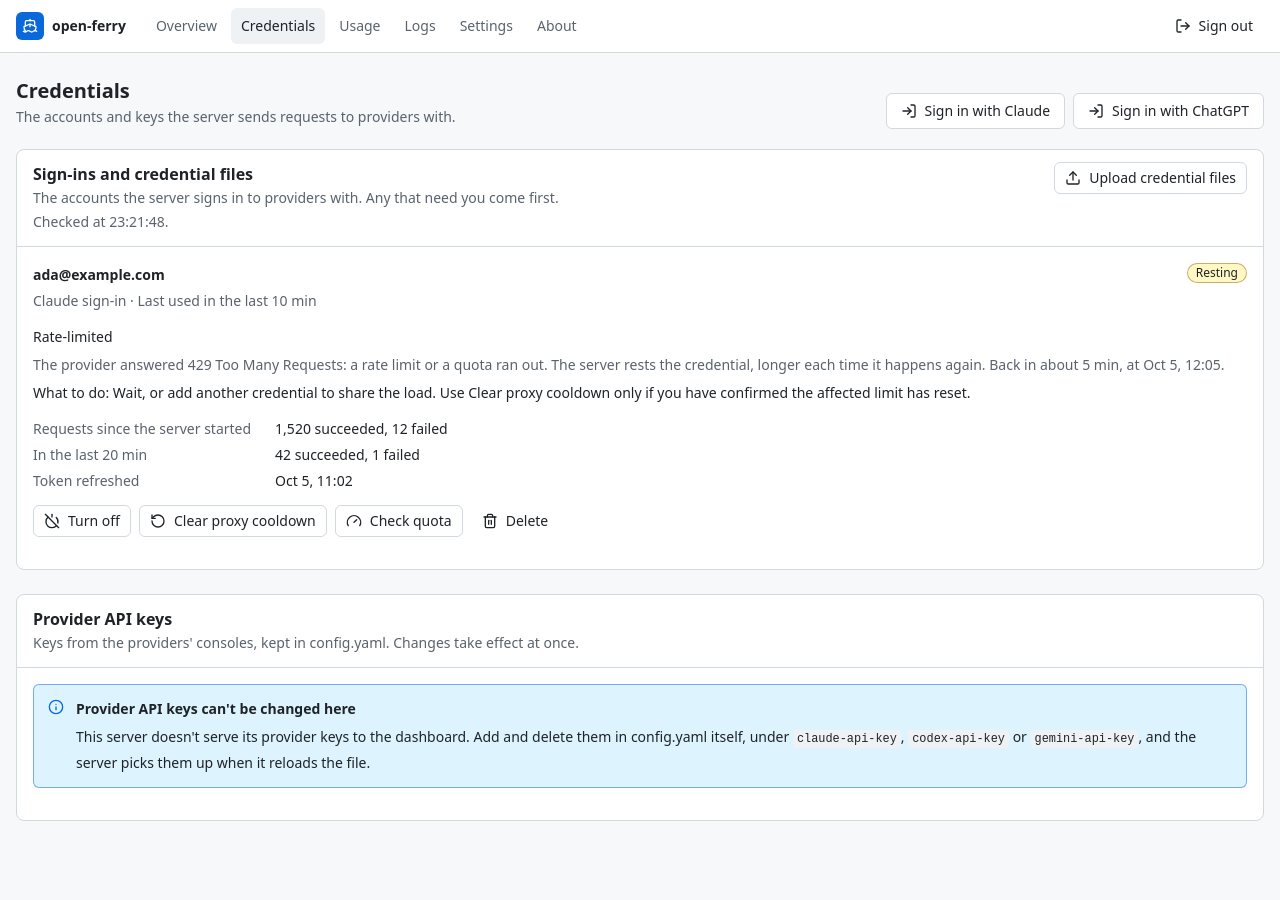
it: fresh quota and cached cooldown › waits for routing refresh and preserves the dialog (recovered: true, Escape: false)
Click the button named "Check quota of ada@example.com": (399, 521) [335,505,463,537]
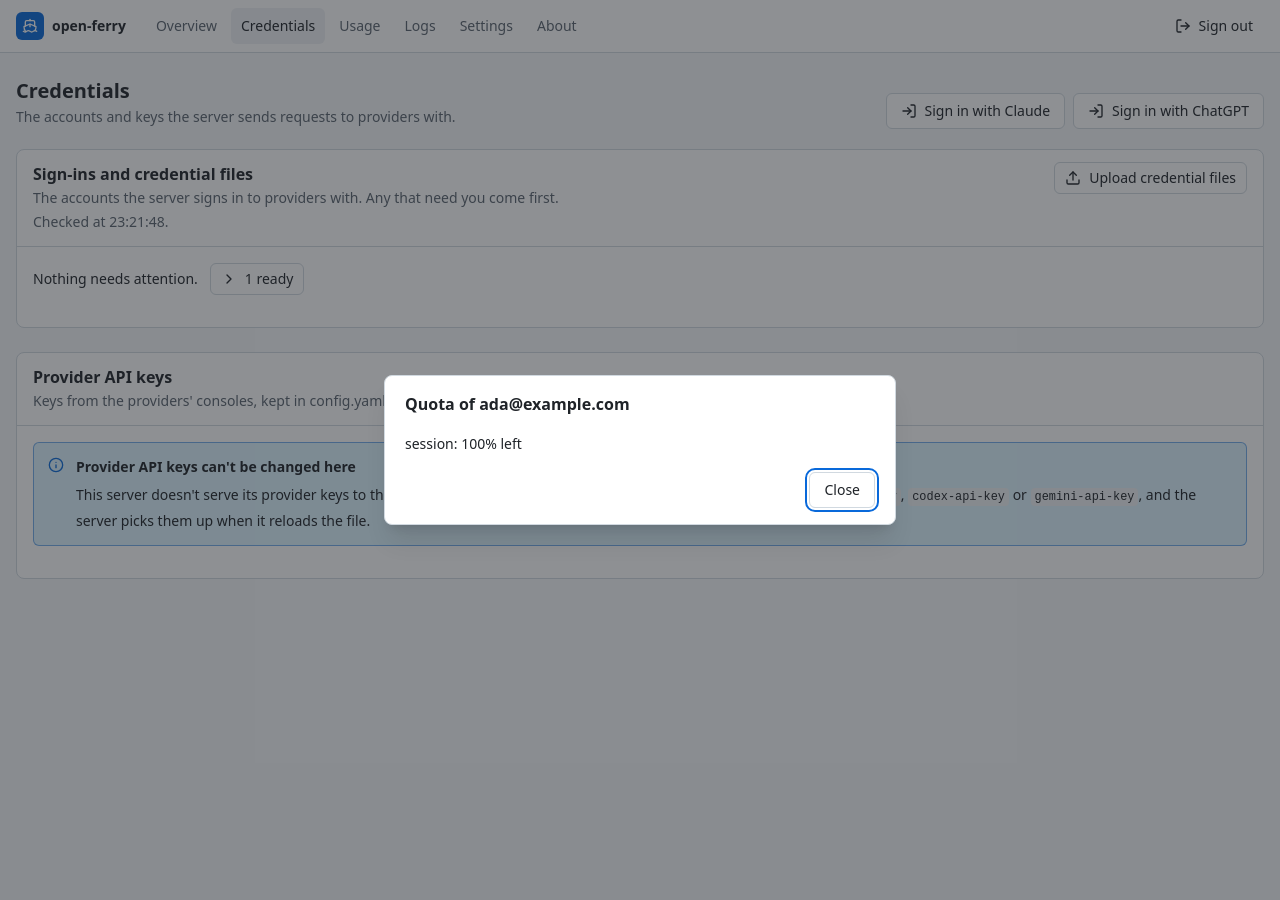
Expected: the button "1 ready" is shown, [210,263,304,295]
Expected: the list item "session: 100% left" is shown, [405,434,522,453]
Click the button "Close": (842, 490) [810,472,875,508]
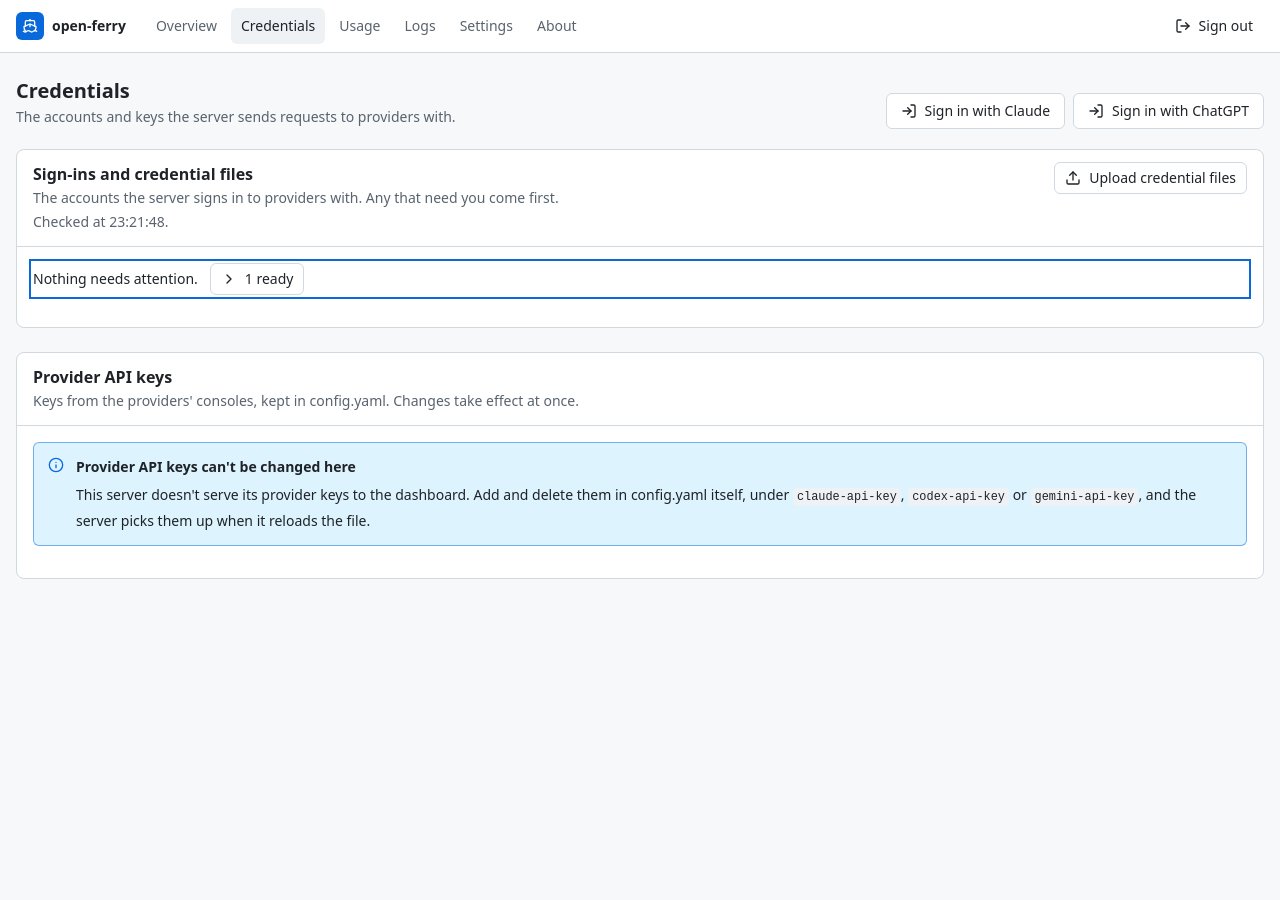
Expected: the heading "Quota of ada@example.com" is gone
